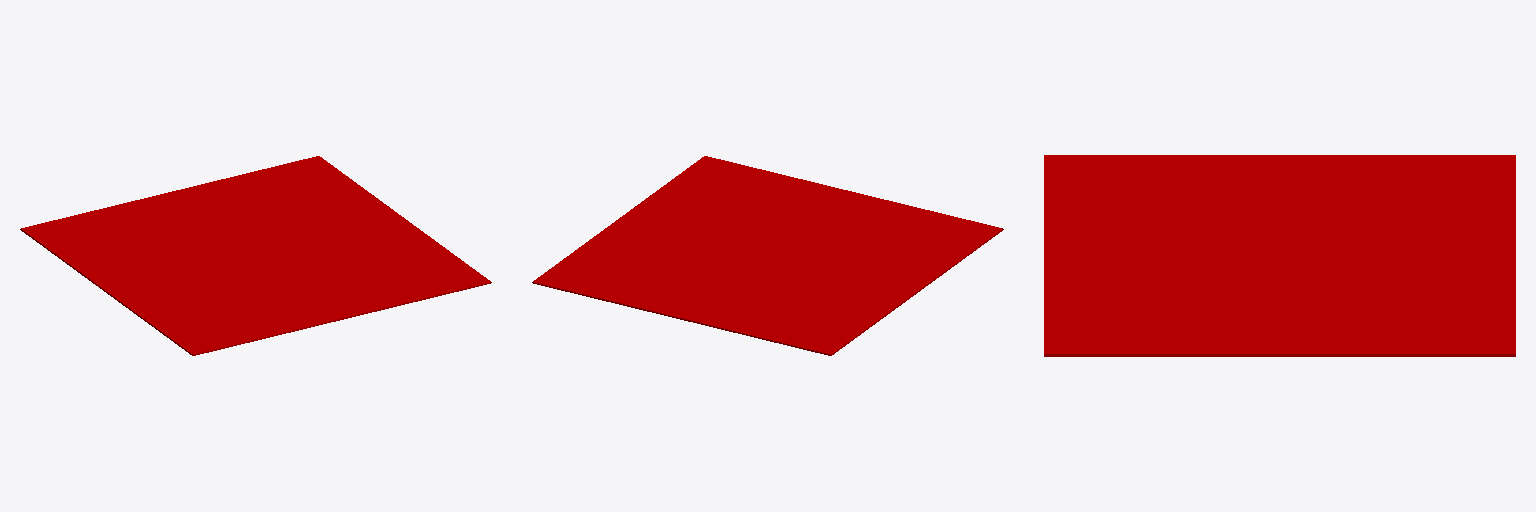
The robot description file, URDF, robot "base":
<?xml version="1.0"?>
<robot name="base">
    <!-- Colors -->
    <material name="red">
        <color rgba="0.8 0 0 1"/>
    </material>

    <!-- Base -->
    <link name="base_link">
        <visual> 
            <geometry> 
                <box size="2 2 0.01"/>
                <origin rpy="0 0 0" xyz="-1 -1 -0.005"/>
            </geometry>
            <material name="red"/>
        </visual>
        <collision> 
             <geometry> 
                <box size="2 2 0.01"/>
                <origin rpy="0 0 0" xyz="-1 -1 -0.005"/>
            </geometry>
        </collision> 
        <inertial> 
            <mass value="0"/>
            <inertia ixx="0" ixy="0" ixz="0" iyy="0" iyz="0" izz="0"/>
        </inertial> 
        <contact> 
            <lateral_friction value="1"/>
        </contact>
    </link> 
</robot>

--- Facts derived from the render (not from the file) ---
3 views of the same robot in one strip: view 1: azimuth 30°, elevation 25°; view 2: azimuth 150°, elevation 25°; view 3: azimuth 270°, elevation 25° (orthographic).
Robot: base — 1 links, 0 joints (none); root link base_link; default pose: all joints at 0.
Links seen in each view (by area): view 1: base_link; view 2: base_link; view 3: base_link.
Boxes of the visible links, x1,y1,x2,y2 form: base_link: (20, 156, 491, 355); base_link: (532, 156, 1003, 355); base_link: (1044, 155, 1515, 356).
Bounding box of the posed robot: 2 × 2 × 0.01 m (x, y, z).
Geometry: primitives only (box / cylinder / sphere), no mesh files.